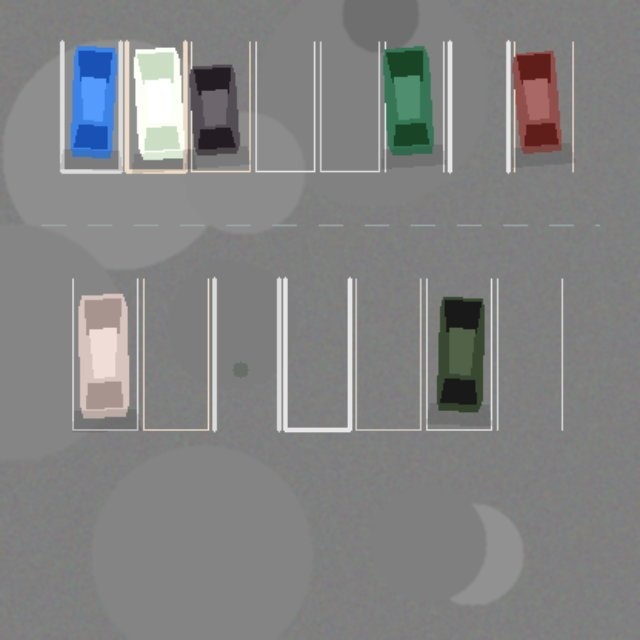space-empty: (143, 278, 208, 429), (355, 278, 420, 429), (497, 278, 562, 429), (214, 278, 278, 429), (285, 278, 349, 429), (255, 42, 314, 171), (449, 42, 508, 171), (320, 42, 378, 171)
space-occupied: (72, 278, 137, 429), (426, 278, 491, 429), (126, 42, 185, 171), (62, 42, 120, 171), (191, 42, 249, 171), (385, 42, 443, 171), (514, 42, 572, 171)
